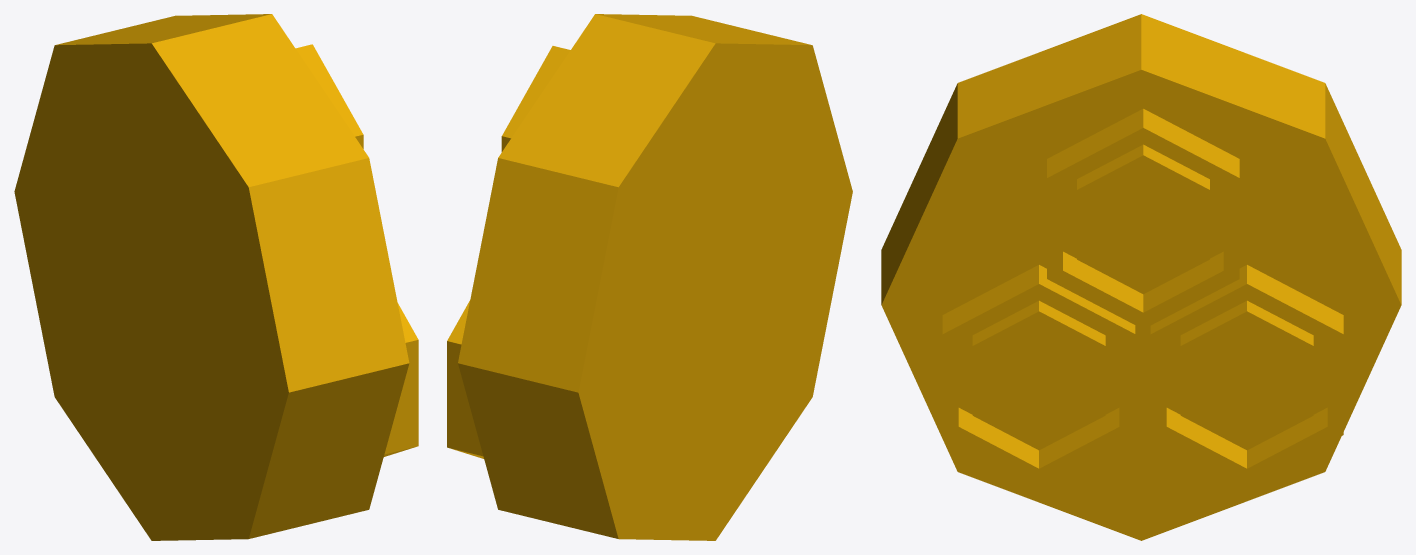
File: outlet_r_4.glb
3 views of the same model, side by side, from view 1: azimuth 30°, elevation 25°; view 2: azimuth 150°, elevation 25°; view 3: azimuth 270°, elevation 25° (orthographic). The views are drawn at different scales.
Visible parts, largest first — view 1: Cylinder.010; view 2: Cylinder.010; view 3: Cylinder.010.
Part boxes in pixels (<box>): Cylinder.010: <box>14,14,418,540</box>; Cylinder.010: <box>447,14,852,540</box>; Cylinder.010: <box>881,14,1401,540</box>.
Bounding box in the file's own units: 0.1118 × 0.328 × 0.328.
